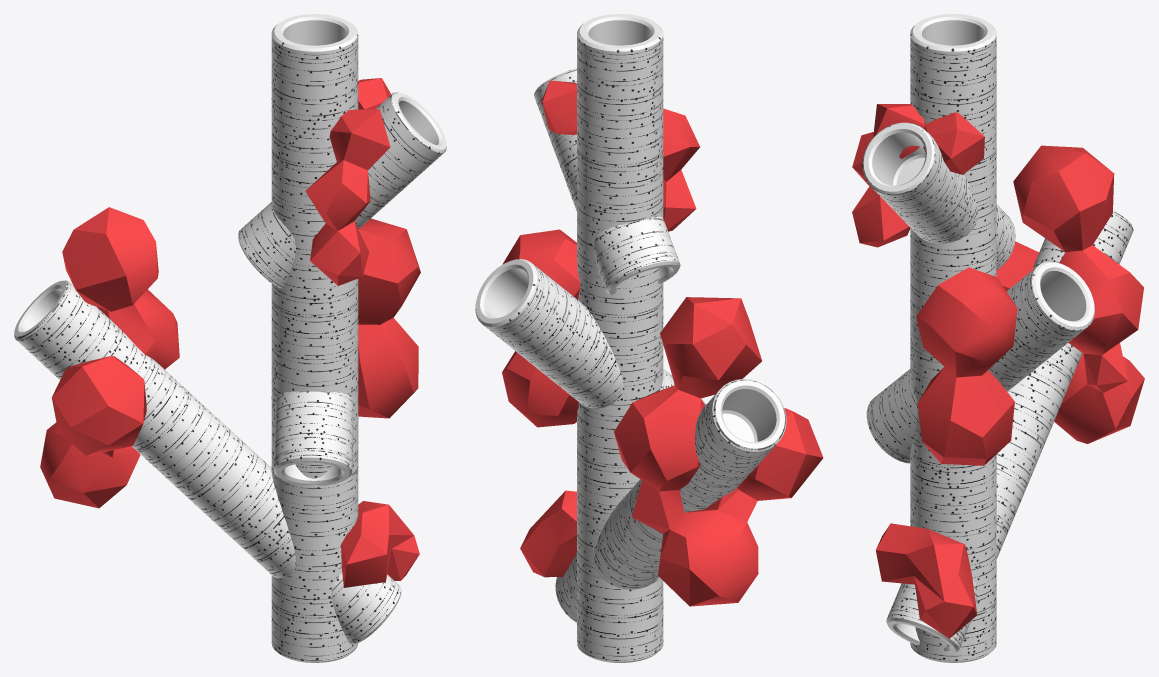
Rendered from treeC2.fbx.
3 renders of one model, left to right at view 1: azimuth 30°, elevation 25°; view 2: azimuth 150°, elevation 25°; view 3: azimuth 270°, elevation 25°, orthographic.
Parts seen in each view (by area): view 1: Cylinder.019; view 2: Cylinder.019; view 3: Cylinder.019.
Part boxes in pixels (left/top/right/bottom): Cylinder.019: left=14, top=14, right=446, bottom=662; Cylinder.019: left=475, top=14, right=823, bottom=662; Cylinder.019: left=852, top=14, right=1144, bottom=662.
Size of the model in its own units: 277 by 485 by 209.
